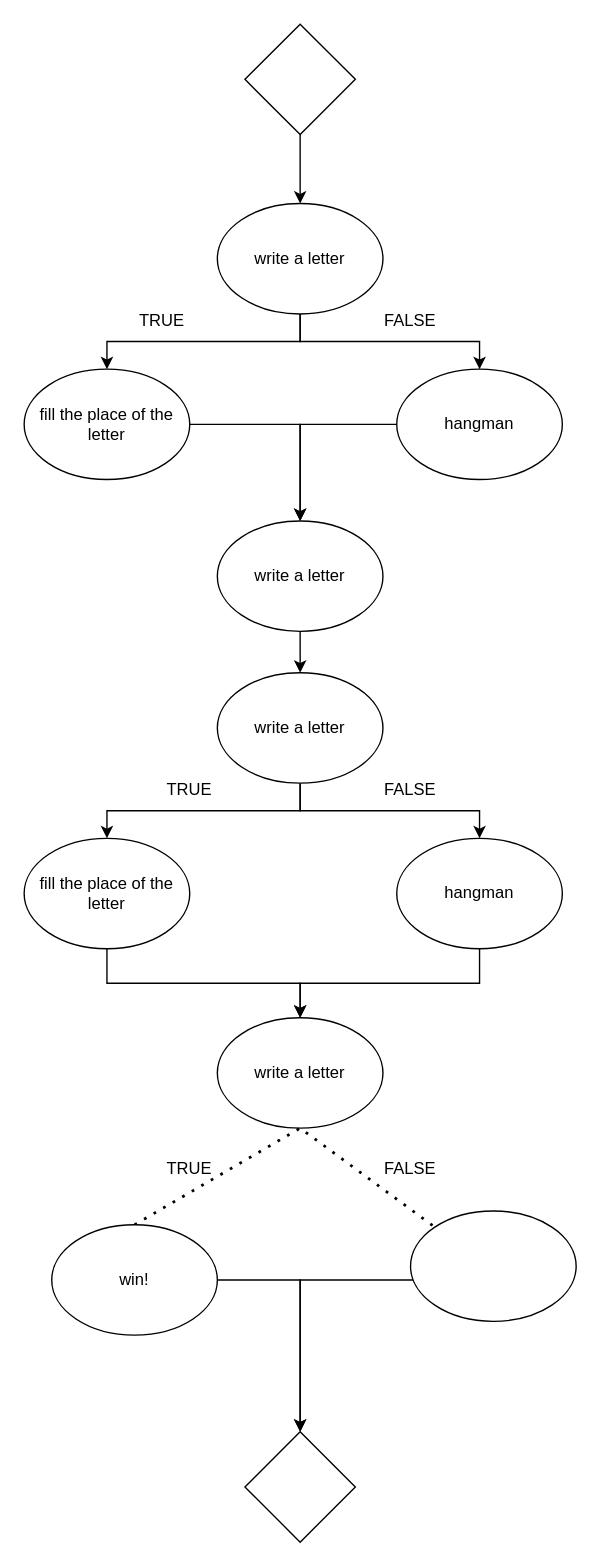
Image size: 600x1566. Some labels were removed from this diagram. The centre of each missing label's shape, as x and y in pixels:
"die" belongs at pixel 492 1265.
"end" belongs at pixel 299 1486.
"start" belongs at pixel 299 79.
